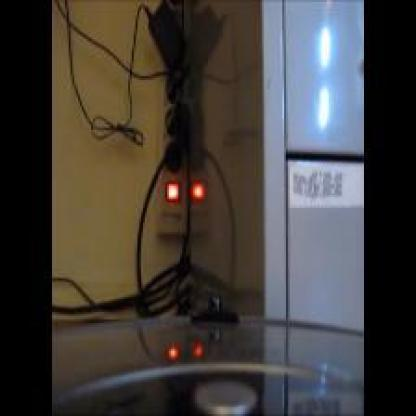other: (306, 21, 337, 132), (159, 168, 215, 198), (156, 337, 209, 361)
